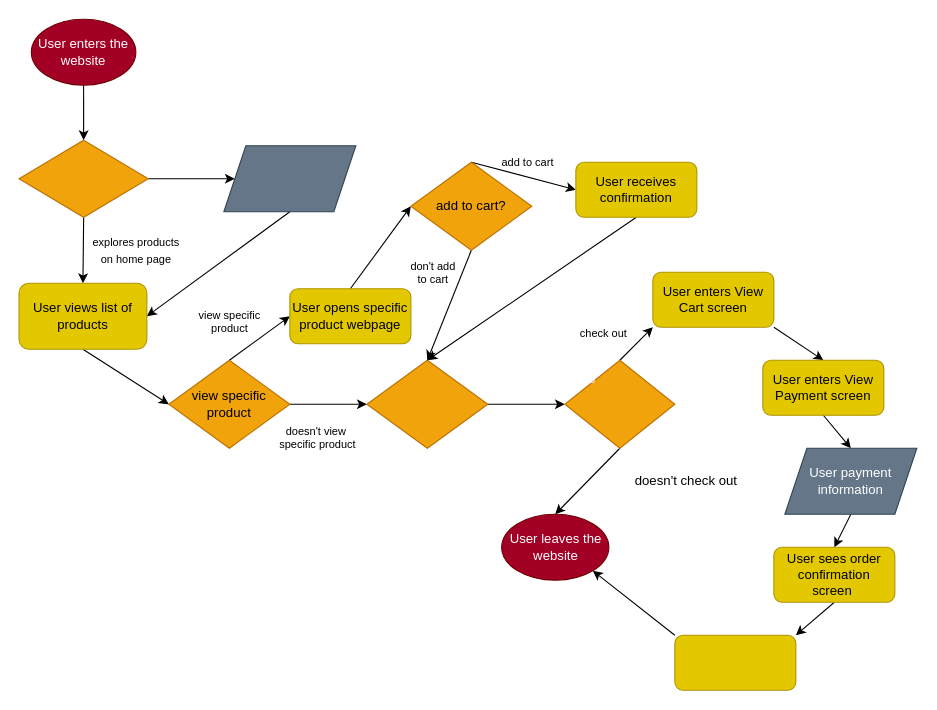
Image size: 937x710. Some labels were removed from this diagram. Here are the shapes that lost their labels. From the top down, the centre of each, then its label:
At [83,178]: "what to do on website".
At [289,178]: "User Search".
At [427,403]: "shopping decision".
At [619,403]: "checkout stand".
At [735,662]: "User gets email confirming purchase".
